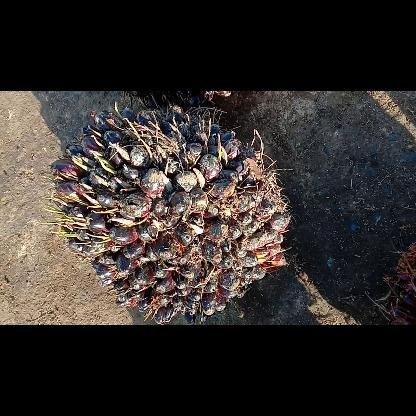TBS mentah: (47, 104, 297, 324)
